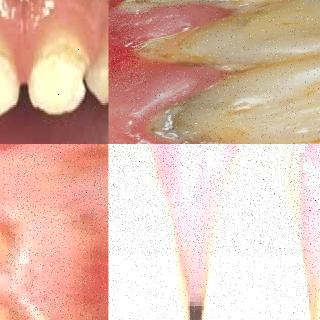Gum Swelling: (109, 0, 247, 144), (0, 144, 59, 320), (0, 30, 19, 114)
plaque: (135, 90, 287, 144), (133, 32, 275, 80), (126, 0, 235, 14)
